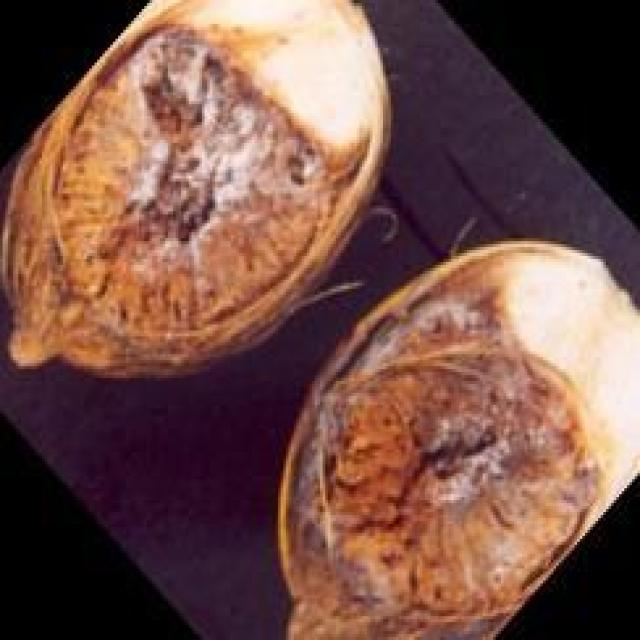damaged: (0, 0, 393, 381), (275, 238, 637, 637)
